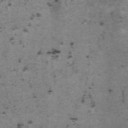oxide scale of temperature system: (2, 2, 78, 98), (87, 1, 123, 40), (70, 94, 96, 122), (108, 88, 125, 103), (17, 120, 33, 128), (3, 104, 9, 110)
